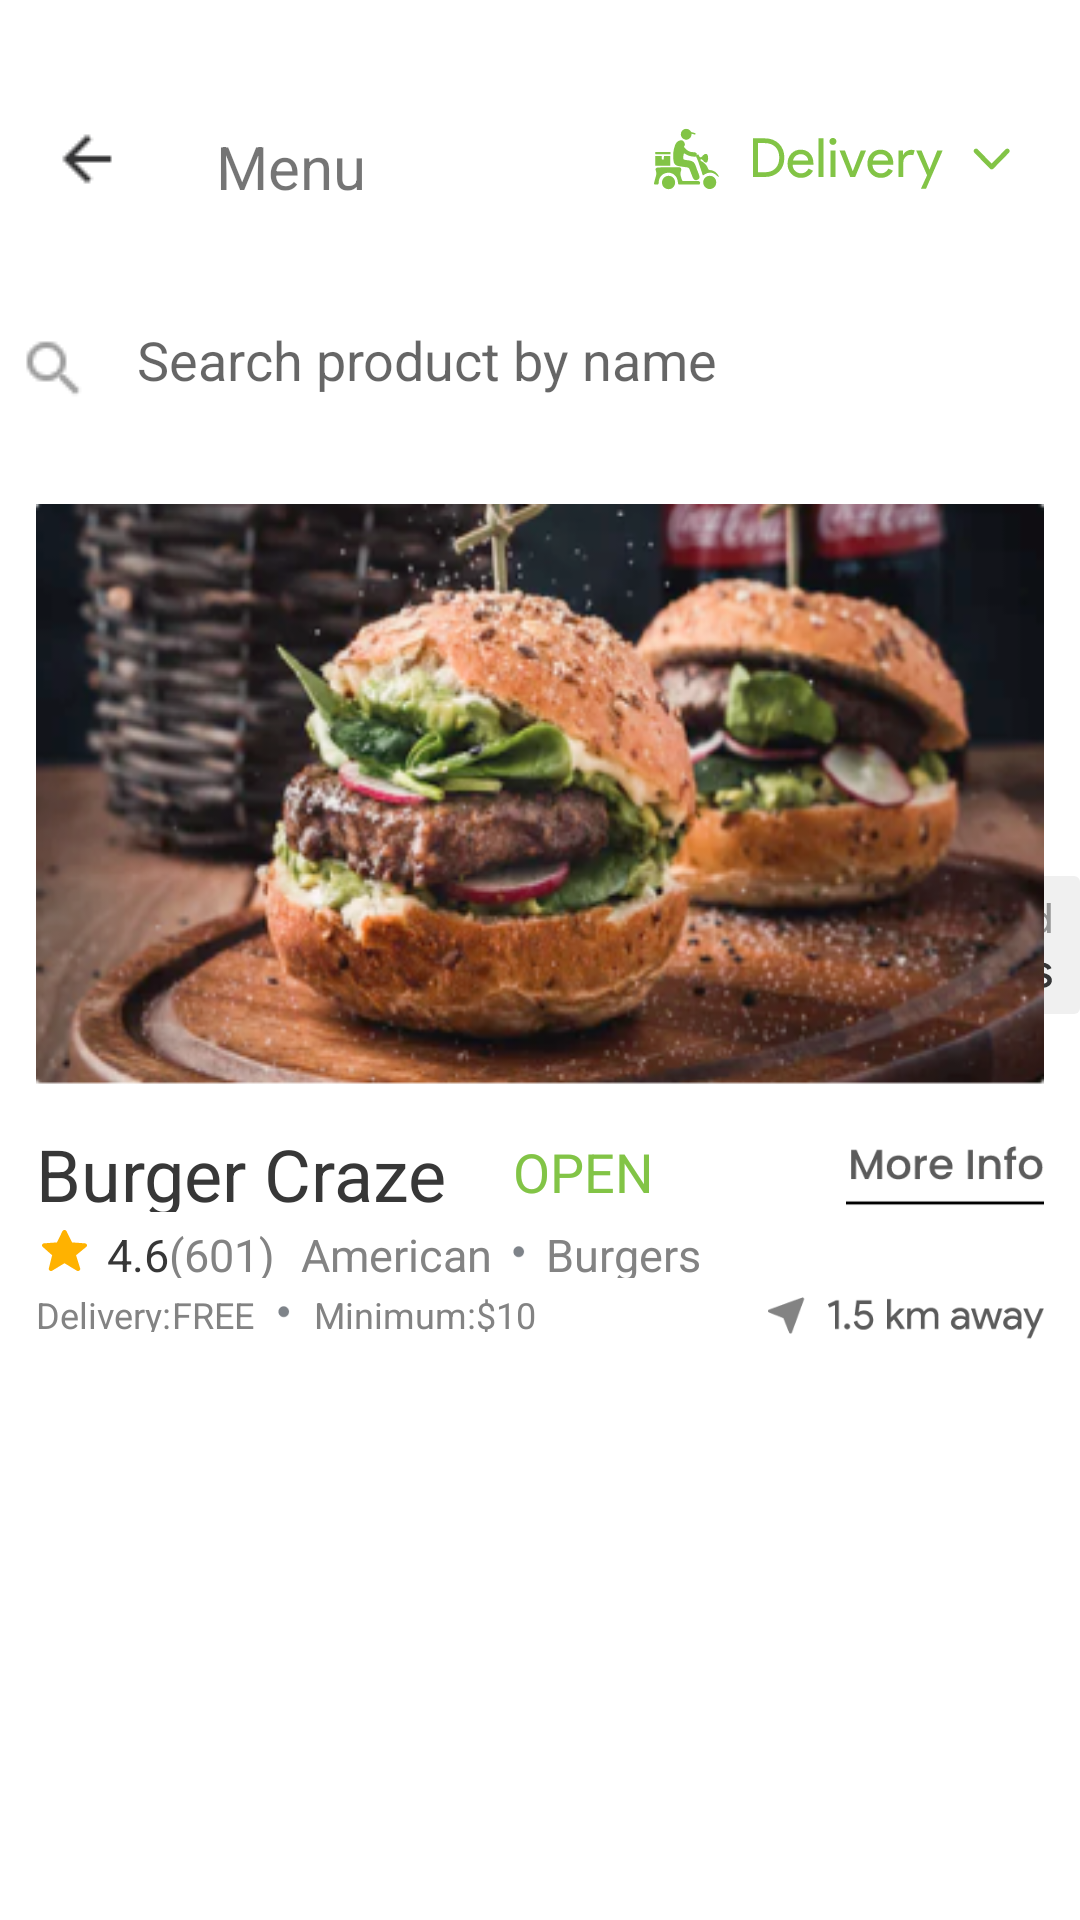

Named icons in this screenshot (1080 × 1920) and their centers, (x,y):
arrow back: (87,159)
star view: (64,1250)
